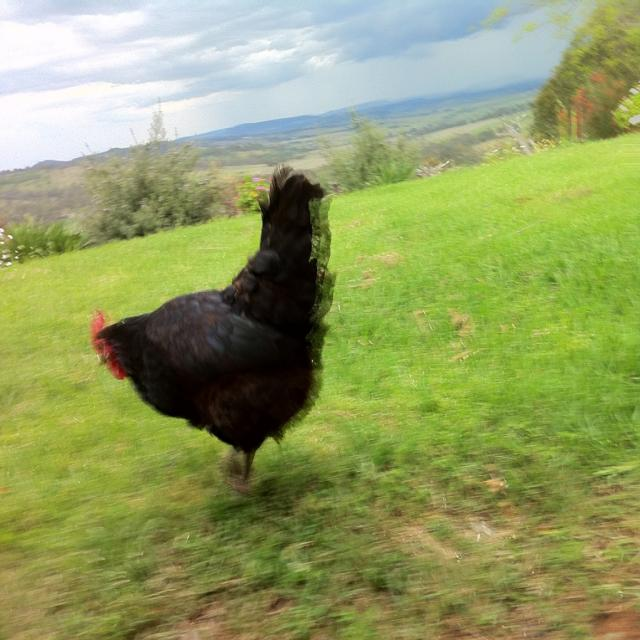Chicken: (90, 161, 334, 489)
